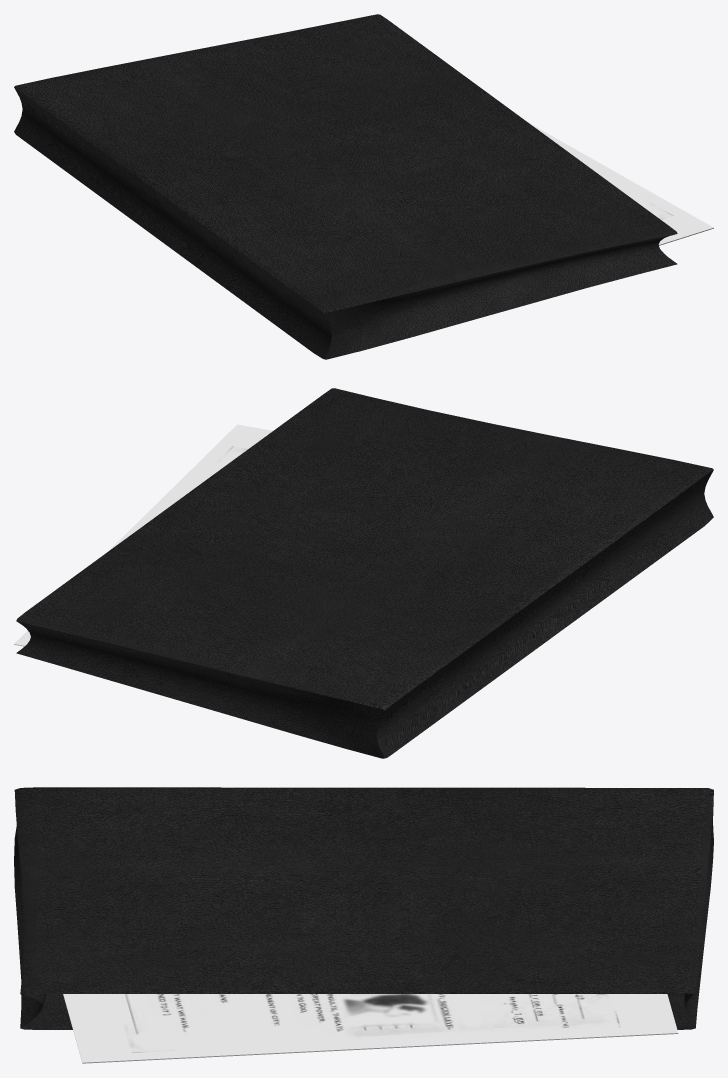
The model's file is Folder.FBX.
3 views of the same model, one above another, from view 1: azimuth 30°, elevation 25°; view 2: azimuth 150°, elevation 25°; view 3: azimuth 270°, elevation 25° (orthographic). The views are drawn at different scales.
Parts seen in each view (by area): view 1: folder, Paper; view 2: folder, Paper; view 3: folder, Paper.
Boxes of the visible parts, x1,y1,x2,y2 form: folder: (14,14,677,359); Paper: (529,123,713,245); folder: (16,388,713,758); Paper: (14,424,272,646); folder: (14,787,713,1029); Paper: (63,994,678,1063).
Bounding box in the file's own units: 28.29 × 3.23 × 36.26.
2 materials, 2 textured.
